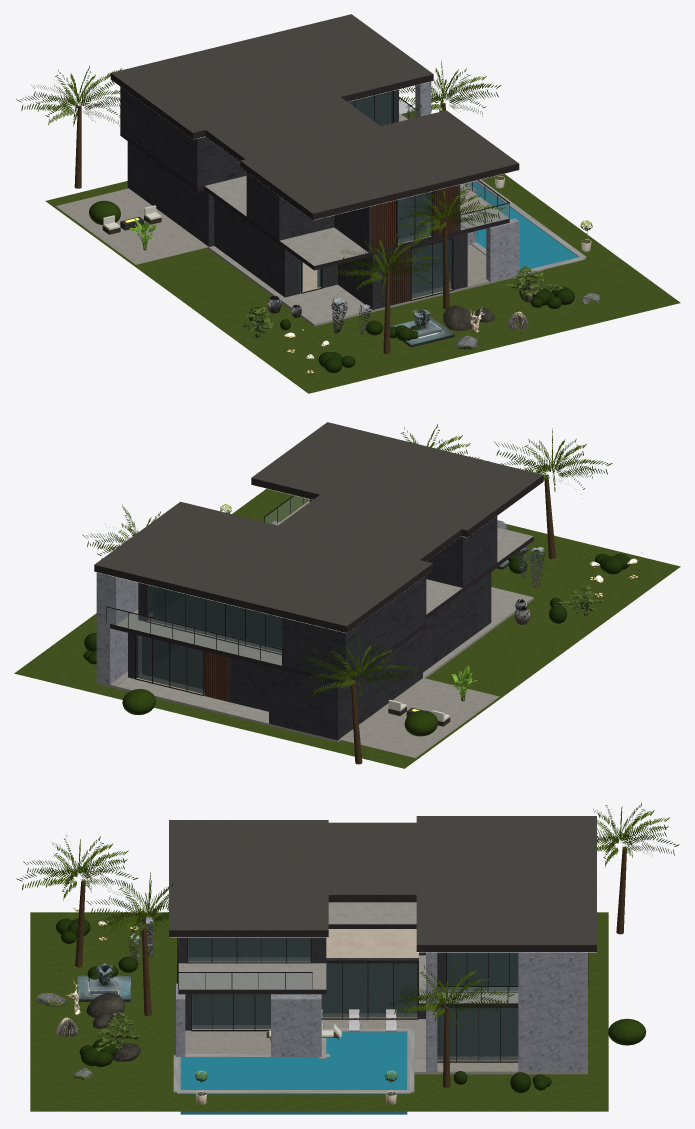
File: chloe.glb
The picture shows the model from 3 angles, top to bottom: view 1: azimuth 30°, elevation 25°; view 2: azimuth 150°, elevation 25°; view 3: azimuth 270°, elevation 25°; orthographic projection. The views are drawn at different scales.
Visible parts, largest first — view 1: m_Material_16, m_Material_19, m_Material_6, m_Material_26, m_Material_14, m_Material_1, m_Material_8, m_Material_0, m_Material_11, m_Material_9, m_Material_12, m_Material_2 (+10 smaller); view 2: m_Material_16, m_Material_6, m_Material_19, m_Material_8, m_Material_9, m_Material_14, m_Material_1, m_Material_26, m_Material_0, m_Material_12, m_Material_15, m_Material_10 (+6 smaller); view 3: m_Material_16, m_Material_19, m_Material_8, m_Material_9, m_Material_12, m_Material_2, m_Material_14, m_Material_26, m_Material_1, m_Material_15, m_Material_7, m_Material_24 (+15 smaller).
Part boxes in pixels (x1,y1,x2,y2): m_Material_16: [110, 14, 519, 220]; m_Material_19: [45, 111, 680, 393]; m_Material_6: [120, 87, 467, 309]; m_Material_26: [16, 60, 505, 294]; m_Material_14: [120, 113, 509, 270]; m_Material_1: [55, 188, 489, 289]; m_Material_8: [300, 91, 452, 298]; m_Material_0: [127, 188, 543, 326]; m_Material_11: [372, 185, 457, 305]; m_Material_9: [348, 93, 450, 293]; m_Material_12: [415, 81, 519, 282]; m_Material_2: [469, 182, 578, 269]; m_Material_16: [94, 422, 543, 632]; m_Material_6: [128, 499, 497, 740]; m_Material_19: [14, 488, 680, 768]; m_Material_8: [136, 584, 282, 693]; m_Material_9: [142, 587, 281, 688]; m_Material_14: [110, 500, 533, 684]; m_Material_1: [110, 672, 499, 758]; m_Material_26: [82, 424, 612, 702]; m_Material_0: [96, 587, 533, 742]; m_Material_12: [96, 521, 279, 684]; m_Material_15: [106, 496, 309, 664]; m_Material_10: [106, 495, 303, 695]; m_Material_16: [169, 816, 596, 951]; m_Material_19: [30, 912, 608, 1111]; m_Material_8: [188, 937, 518, 1060]; m_Material_9: [189, 938, 517, 1055]; m_Material_12: [176, 952, 587, 1071]; m_Material_2: [180, 1032, 407, 1089]; m_Material_14: [178, 902, 518, 1007]; m_Material_26: [16, 803, 679, 1029]; m_Material_1: [185, 1019, 518, 1071]; m_Material_15: [179, 973, 517, 1002]; m_Material_7: [326, 929, 418, 957]; m_Material_24: [56, 918, 551, 1092].
Size of the model in its own units: 28.09 by 9.8 by 38.34.
35 materials, 35 textured.
